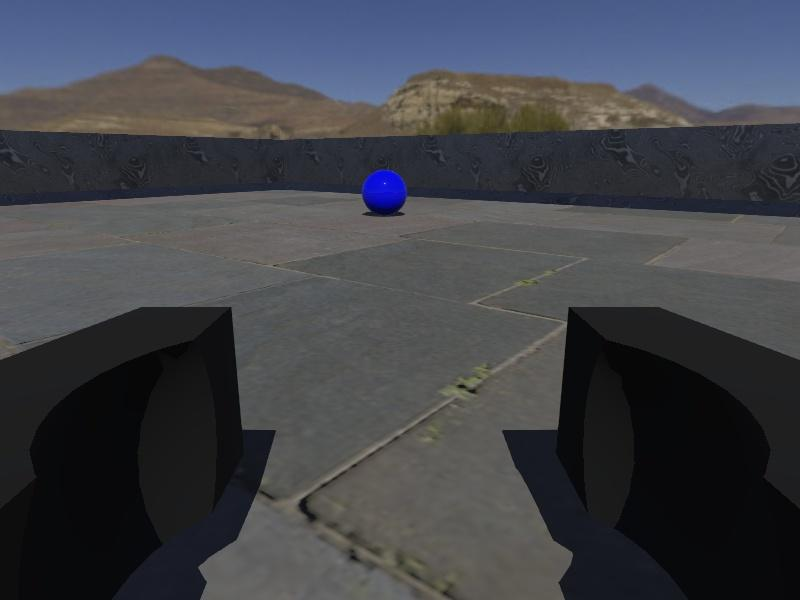blue ball: (362, 168, 408, 215)
